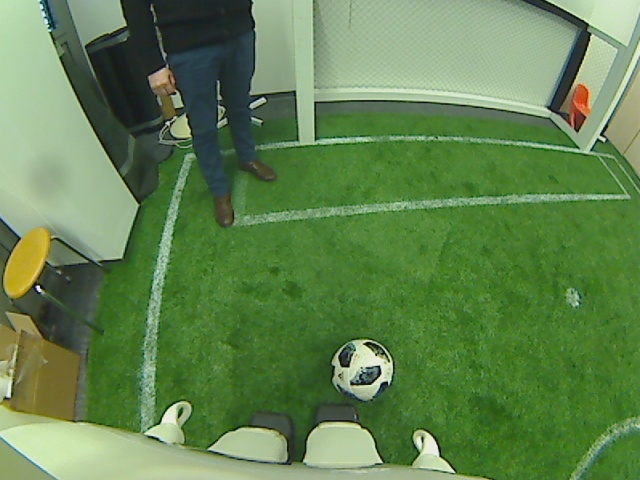ball: (327, 336, 395, 403)
